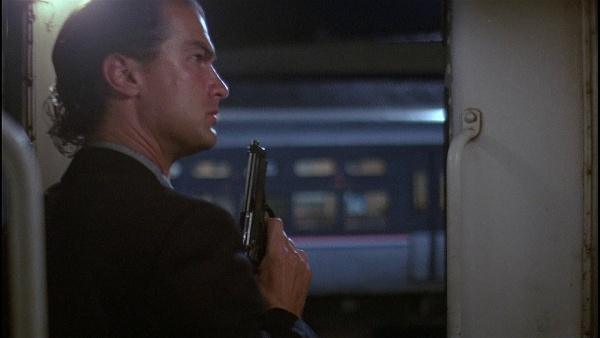Gun: (238, 139, 278, 274)
